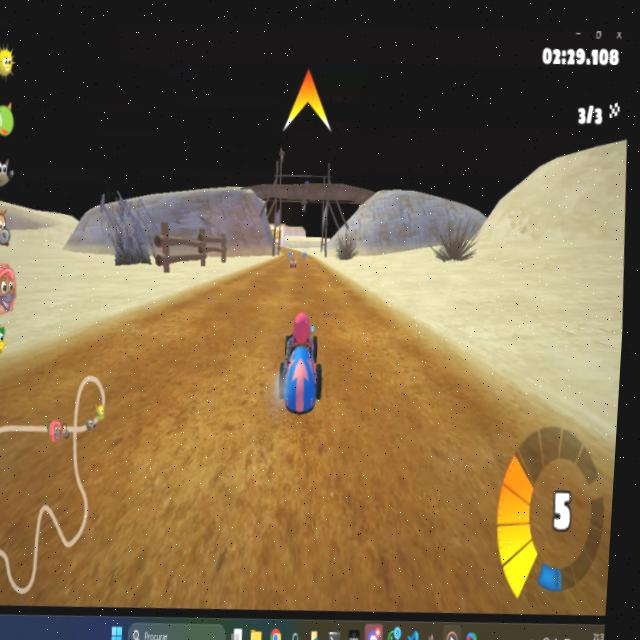bonus: (302, 243, 310, 257)
enemy_kart: (290, 257, 301, 269)
off_track: (393, 145, 621, 328), (27, 171, 256, 287)
player_kart: (278, 312, 330, 410)
track: (136, 307, 289, 588), (233, 266, 350, 311)
